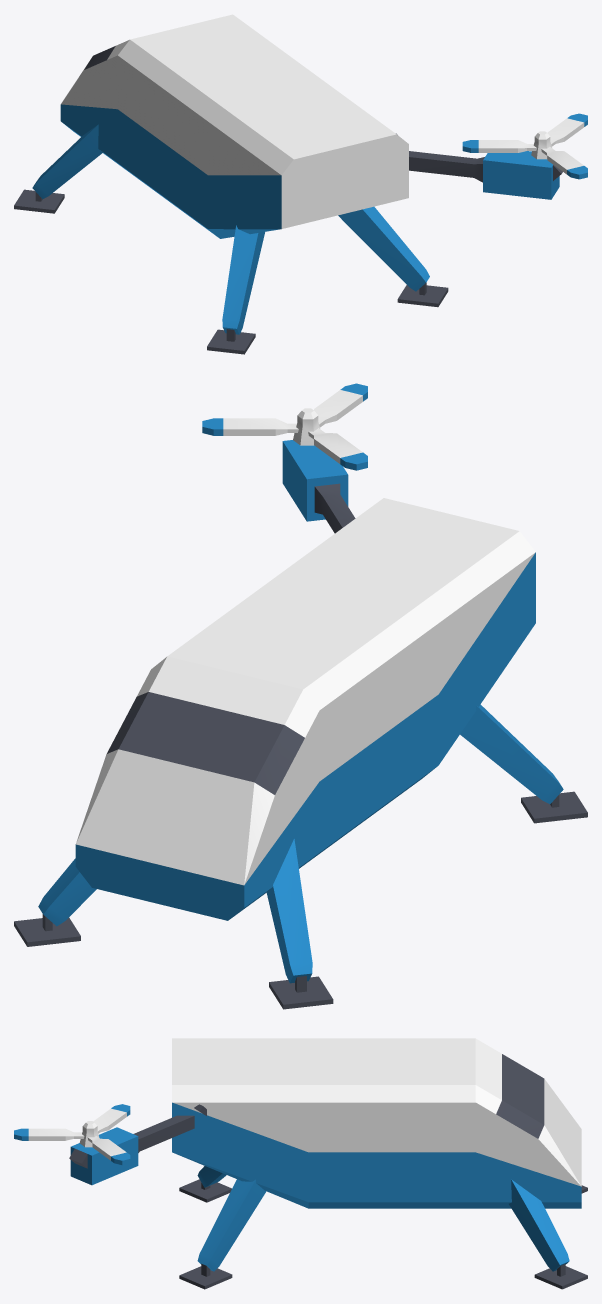
File: drone.model.fbx
The picture shows the model from 3 angles, top to bottom: view 1: azimuth 30°, elevation 25°; view 2: azimuth 150°, elevation 25°; view 3: azimuth 270°, elevation 25°; orthographic projection. The views are drawn at different scales.
Visible parts, largest first — view 1: plane_end_4, plane_body_3, plane_cockpitBlock%_29, landing_telescope%_30, landing_craft%_32, landing_craft%_31, landing_craft%_34, detail_propellerThree%_24; view 2: plane_cockpitBlock%_29, plane_body_3, plane_end_4, landing_craft%_34, landing_craft%_31, detail_propellerThree%_24, landing_telescope%_30, landing_craft%_33; view 3: plane_body_3, plane_end_4, plane_cockpitBlock%_29, landing_telescope%_30, landing_craft%_32, landing_craft%_33, detail_propellerThree%_24, landing_craft%_31.
Part boxes in pixels (x1,y1,x2,y2): plane_end_4: (208, 80, 408, 238); plane_body_3: (134, 26, 322, 236); plane_cockpitBlock%_29: (60, 14, 248, 183); landing_telescope%_30: (396, 133, 562, 199); landing_craft%_32: (338, 206, 448, 307); landing_craft%_31: (207, 225, 264, 354); landing_craft%_34: (14, 124, 102, 213); detail_propellerThree%_24: (462, 113, 587, 179); plane_cockpitBlock%_29: (75, 640, 341, 920); plane_body_3: (189, 569, 438, 847); plane_end_4: (287, 498, 535, 764); landing_craft%_34: (266, 839, 333, 1009); landing_craft%_31: (460, 704, 587, 823); detail_propellerThree%_24: (202, 383, 367, 470); landing_telescope%_30: (282, 440, 355, 533); landing_craft%_33: (14, 858, 96, 946); plane_body_3: (308, 1038, 444, 1208); plane_end_4: (172, 1038, 308, 1208); plane_cockpitBlock%_29: (445, 1038, 581, 1208); landing_telescope%_30: (69, 1104, 206, 1185); landing_craft%_32: (179, 1179, 266, 1289); landing_craft%_33: (509, 1179, 587, 1289); detail_propellerThree%_24: (14, 1104, 130, 1165); landing_craft%_31: (179, 1166, 231, 1202).
Bounding box in the file's own units: 26.39 × 14.67 × 42.06.
